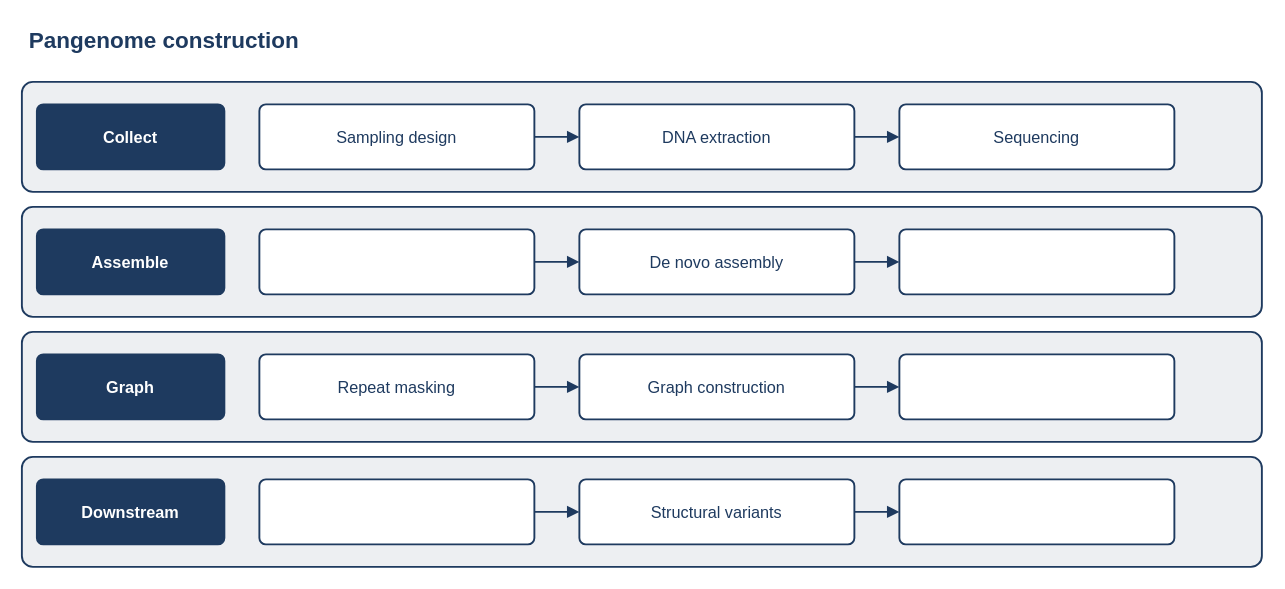
This 1285x589 diagram has some shape labels left out. The centre of each missing label's shape, as x and y in pixels:
"Assembly QC" belongs at (1036,261).
"Core genome" belongs at (1036,511).
"Gene presence" belongs at (396,511).
"Path typing" belongs at (1036,386).
"Read QC" belongs at (396,261).
